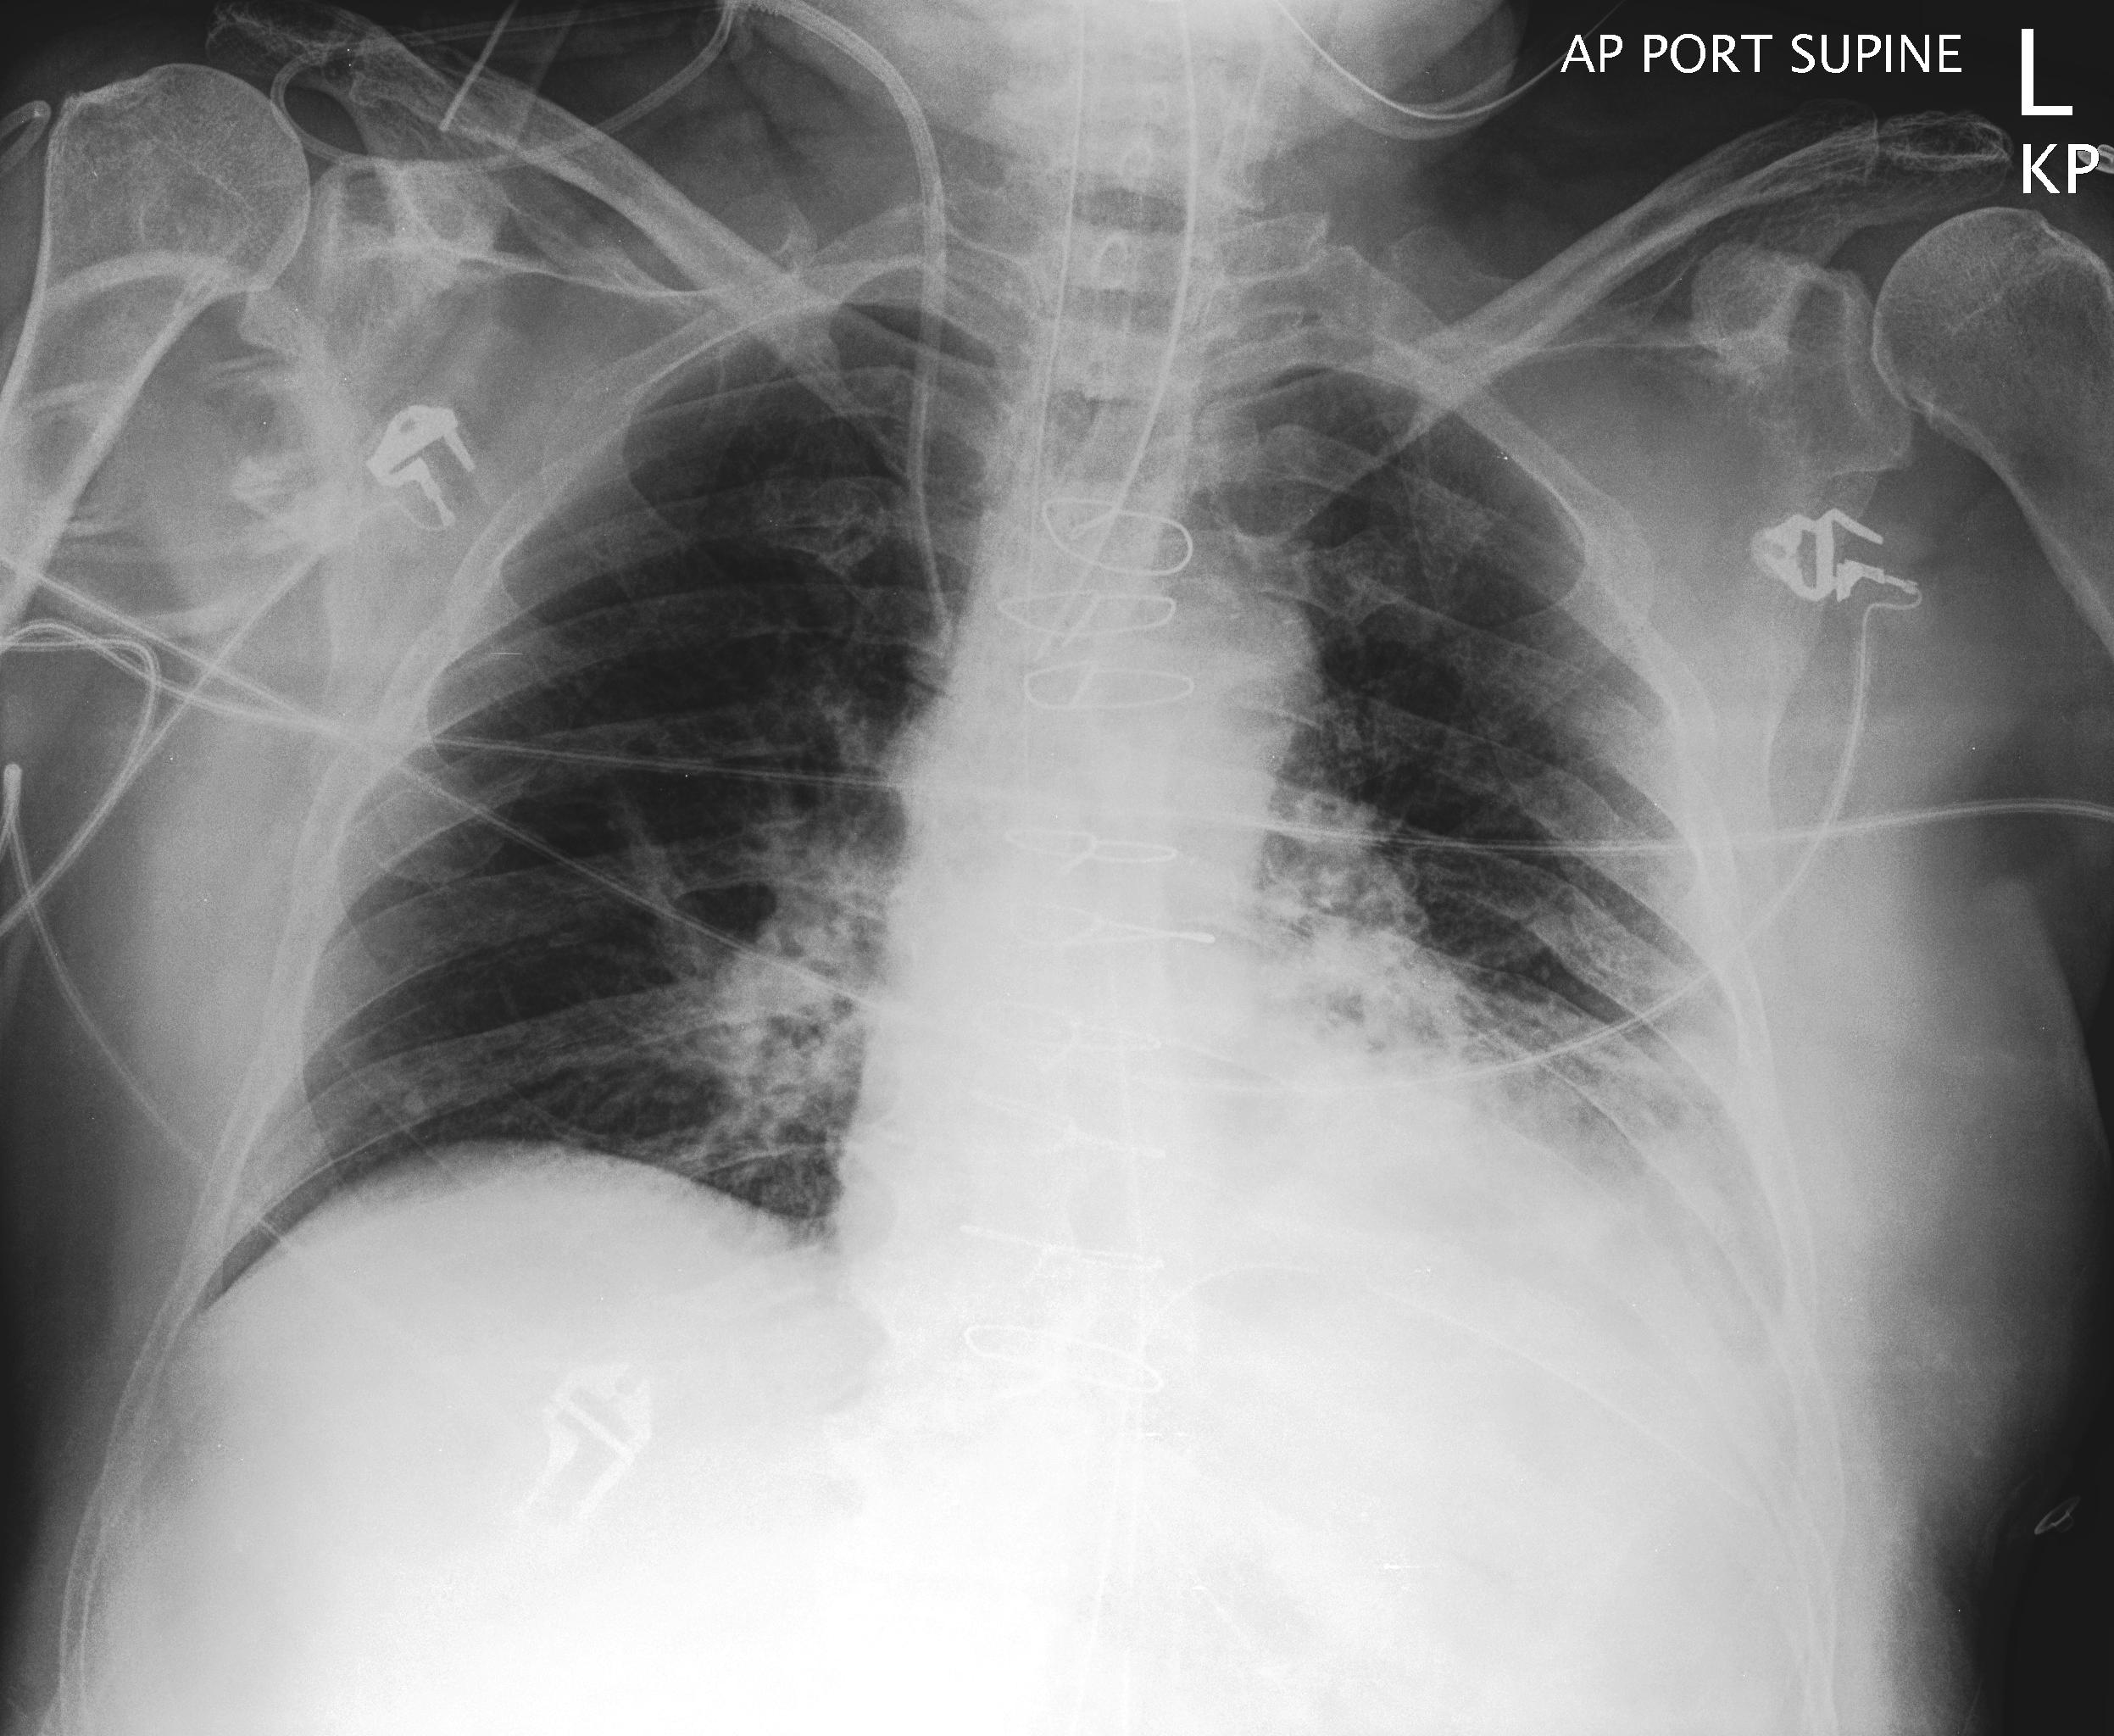Pleural Effusion: (1375, 1044, 1884, 1469)
